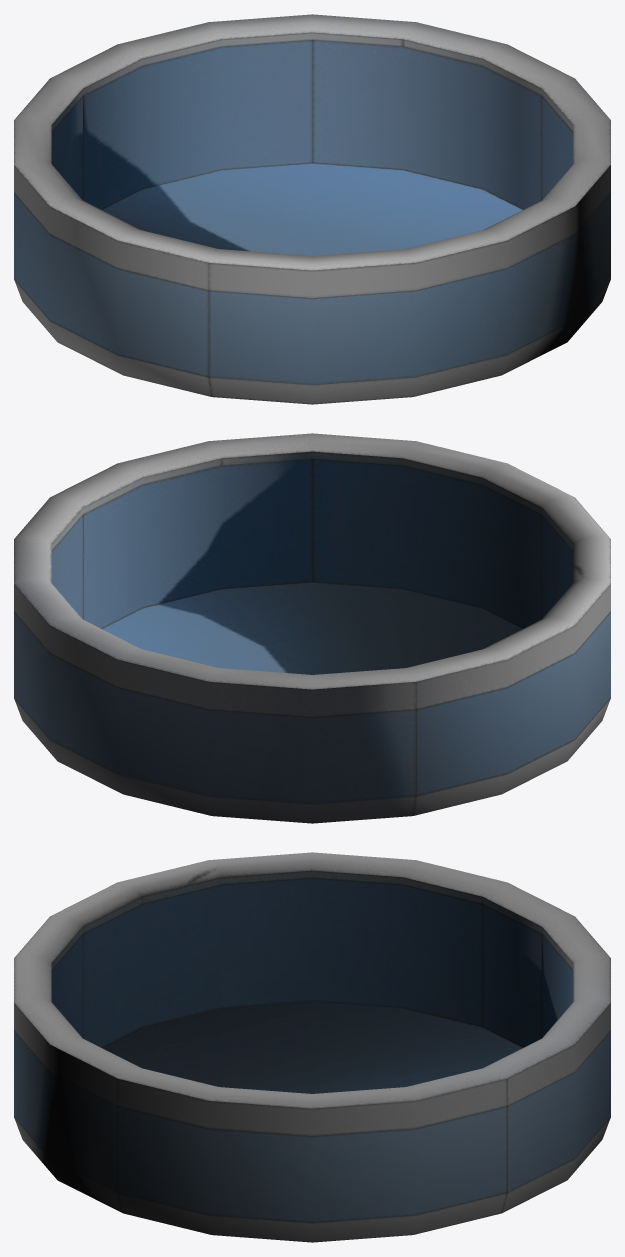
File: pool.obj
The picture shows the model from 3 angles, top to bottom: view 1: azimuth 30°, elevation 25°; view 2: azimuth 150°, elevation 25°; view 3: azimuth 270°, elevation 25°; orthographic projection.
Visible parts, largest first — view 1: Cylinder003; view 2: Cylinder003; view 3: Cylinder003.
Part boxes in pixels (bbox=[...]): Cylinder003: bbox=[14, 14, 610, 404]; Cylinder003: bbox=[14, 433, 610, 823]; Cylinder003: bbox=[14, 852, 610, 1242].
Size of the model in its own units: 207 by 55.85 by 203.
Materials: 1 (1 with a texture image).
